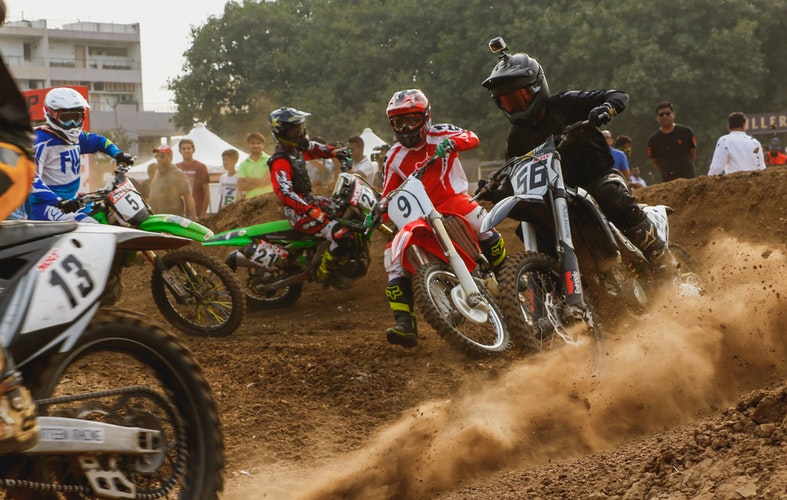helmet: (487, 56, 559, 120), (36, 94, 104, 145), (384, 87, 435, 151), (262, 108, 318, 148)
